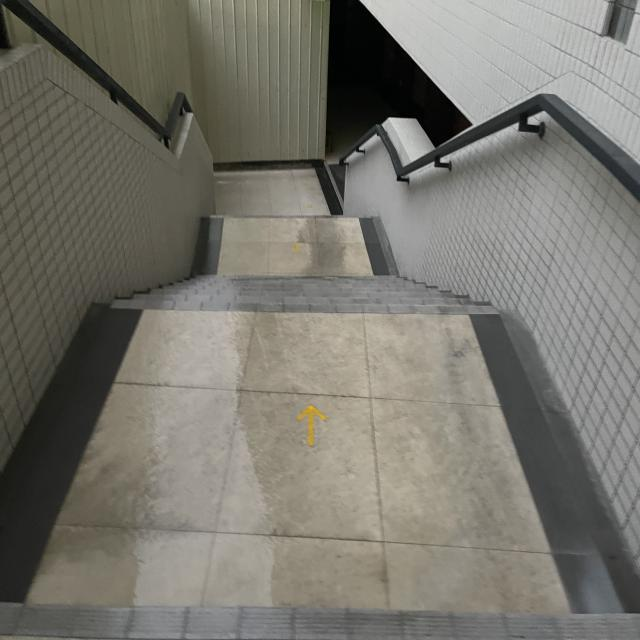Stairs: (59, 175, 571, 350)
